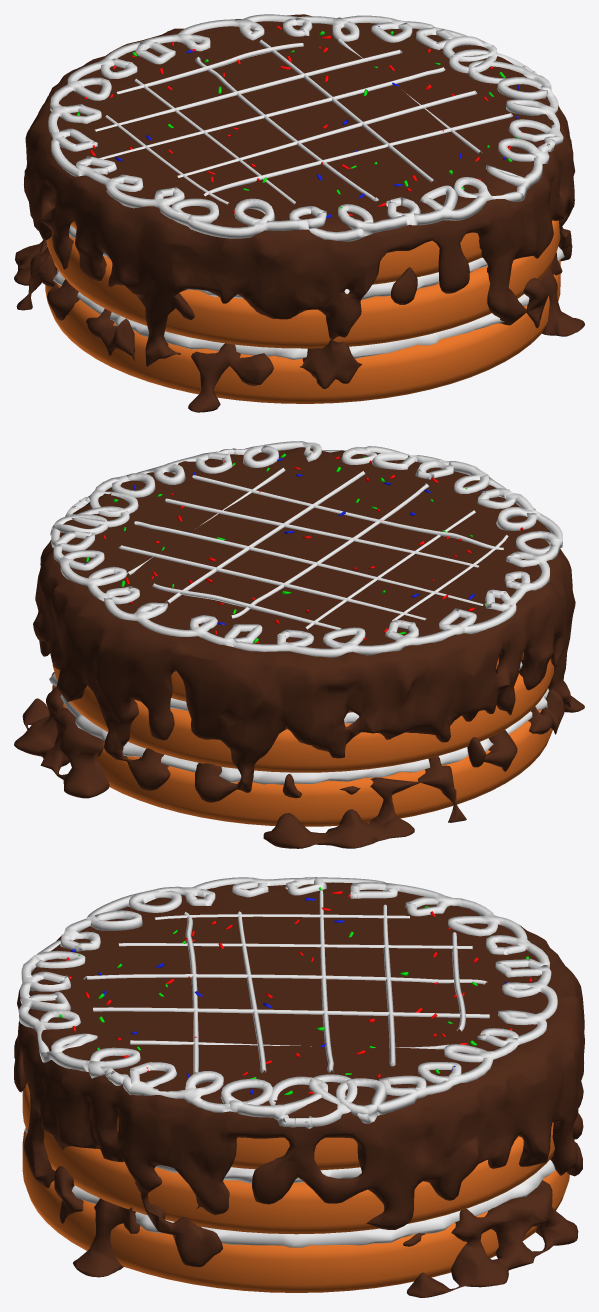
Rendered from cake.dae.
The picture shows the model from 3 angles, top to bottom: view 1: azimuth 30°, elevation 25°; view 2: azimuth 150°, elevation 25°; view 3: azimuth 270°, elevation 25°; orthographic projection. The views are drawn at different scales.
Parts seen in each view (by area): view 1: Frosting3, Frosting1, Layer1, Layer2, Frosting2, Filling1, Layer3, Sprinkles, Filling2; view 2: Frosting3, Frosting1, Layer1, Layer2, Frosting2, Filling1, Sprinkles; view 3: Frosting3, Frosting1, Layer1, Layer2, Frosting2, Filling1, Layer3, Sprinkles, Filling2.
Boxes of the visible parts, bbox=[...] form: Frosting3: bbox=[14, 14, 584, 412]; Frosting1: bbox=[48, 14, 563, 241]; Layer1: bbox=[45, 260, 560, 403]; Layer2: bbox=[46, 220, 560, 348]; Frosting2: bbox=[94, 38, 512, 204]; Filling1: bbox=[47, 246, 564, 359]; Layer3: bbox=[70, 221, 481, 284]; Sprinkles: bbox=[77, 26, 524, 218]; Filling2: bbox=[69, 225, 487, 299]; Frosting3: bbox=[14, 447, 584, 848]; Frosting1: bbox=[50, 441, 562, 657]; Layer1: bbox=[52, 685, 552, 826]; Layer2: bbox=[52, 659, 553, 772]; Frosting2: bbox=[118, 467, 508, 629]; Filling1: bbox=[49, 673, 549, 784]; Sprinkles: bbox=[84, 453, 523, 643]; Frosting3: bbox=[14, 882, 584, 1297]; Frosting1: bbox=[18, 877, 557, 1128]; Layer1: bbox=[22, 1128, 569, 1292]; Layer2: bbox=[22, 1083, 554, 1234]; Frosting2: bbox=[83, 890, 489, 1074]; Filling1: bbox=[24, 1129, 555, 1247]; Layer3: bbox=[90, 1108, 360, 1170]; Sprinkles: bbox=[59, 887, 531, 1094]; Filling2: bbox=[155, 1165, 361, 1183].
Size of the model in its own units: 4.21 by 4.15 by 1.65.
